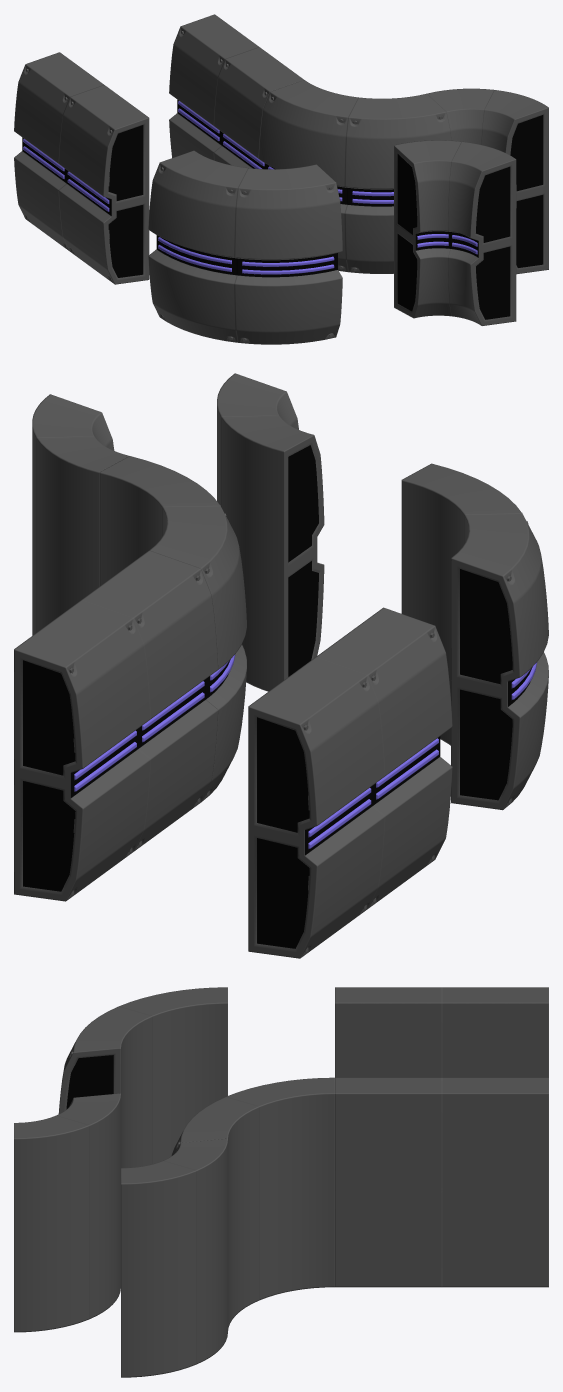
Rendered from sifi3.fbx.
3 renders of one model, top to bottom at view 1: azimuth 30°, elevation 25°; view 2: azimuth 150°, elevation 25°; view 3: azimuth 270°, elevation 25°, orthographic. The views are drawn at different scales.
Parts seen in each view (by area): view 1: SciFi_panel_004_b.001, SciFi_panel_004_a.001, SciFi_panel_004_c.001, SciFi_panel_004_b, SciFi_panel_004_a, SciFi_panel_004_c; view 2: SciFi_panel_004_a.001, SciFi_panel_004_a, SciFi_panel_004_b.001, SciFi_panel_004_c.001, SciFi_panel_004_b, SciFi_panel_004_c; view 3: SciFi_panel_004_a, SciFi_panel_004_b, SciFi_panel_004_c.001, SciFi_panel_004_c, SciFi_panel_004_b.001, SciFi_panel_004_a.001.
Part boxes in pixels (x1,y1,x2,y2): SciFi_panel_004_b.001: (148,150,342,344); SciFi_panel_004_a.001: (14,52,149,284); SciFi_panel_004_c.001: (394,140,516,325); SciFi_panel_004_b: (258,80,451,273); SciFi_panel_004_a: (169,14,303,169); SciFi_panel_004_c: (427,88,548,274); SciFi_panel_004_a.001: (248,607,452,958); SciFi_panel_004_a: (14,550,218,901); SciFi_panel_004_b.001: (401,463,548,810); SciFi_panel_004_c.001: (217,373,324,691); SciFi_panel_004_b: (99,456,246,802); SciFi_panel_004_c: (32,394,128,635); SciFi_panel_004_a: (335,1077,548,1287); SciFi_panel_004_b: (171,1077,334,1330); SciFi_panel_004_c.001: (14,1093,120,1332); SciFi_panel_004_c: (121,1138,227,1377); SciFi_panel_004_b.001: (58,987,227,1167); SciFi_panel_004_a.001: (335,987,548,1077).
Bounding box in the file's own units: 459 × 200 × 500.
